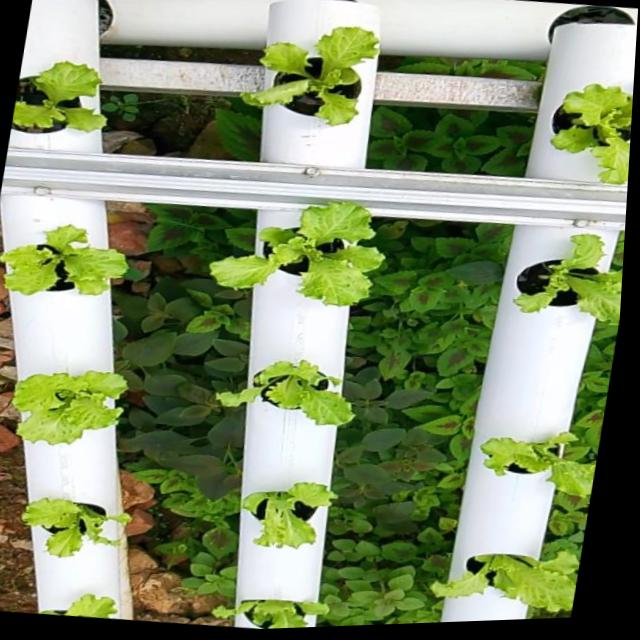Baby: (197, 200, 378, 306), (229, 17, 373, 121), (511, 232, 623, 326), (203, 361, 347, 429), (427, 558, 578, 618), (550, 78, 633, 181), (0, 372, 112, 448), (0, 222, 113, 295), (476, 436, 594, 504), (2, 502, 115, 563), (229, 487, 328, 555), (12, 52, 90, 126)
